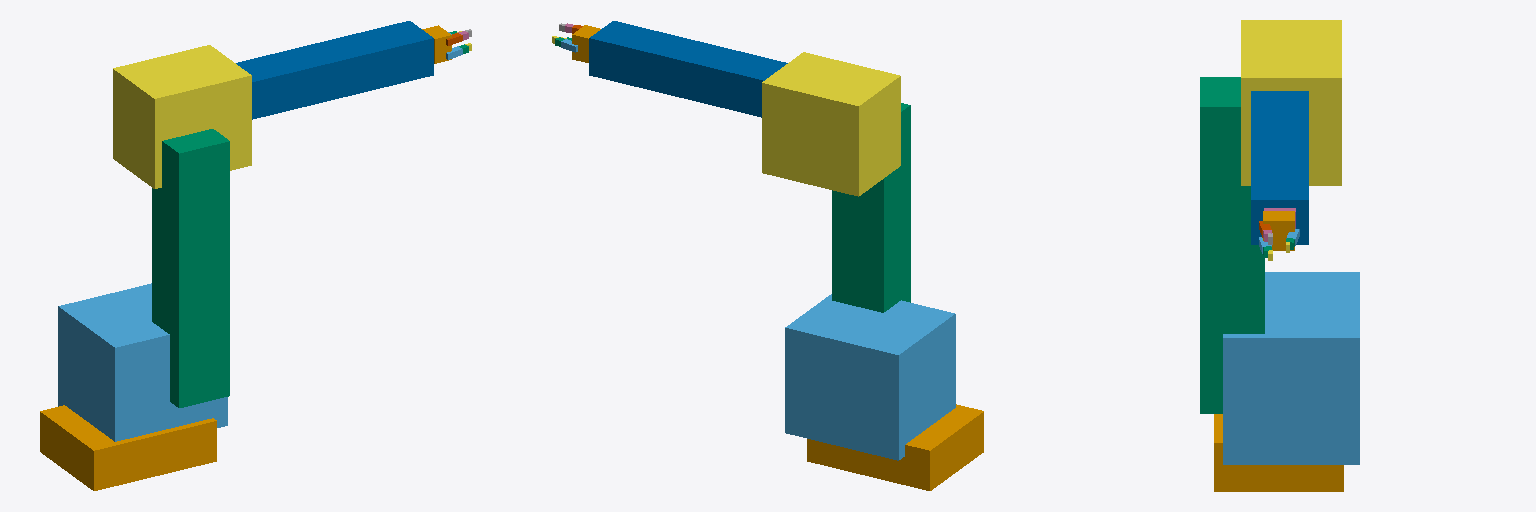
robot.urdf — IRB 4600/40:
<?xml version="1.0"?>
<robot name="IRB 4600/40" xmlns:xacro="http://ros.org/wiki/xacro">
  <link name="base_link">
    <visual>
      <origin xyz="-0.063119 0 0.106497" rpy="0 0 0"/>
      <geometry>
        <box size="0.676133 0.514411 0.213001"/>
      </geometry>
    </visual>
    <collision>
      <origin xyz="-0.063119 0 0.106497" rpy="0 0 0"/>
      <geometry>
        <box size="0.676133 0.514411 0.213001"/>
      </geometry>
    </collision>
  </link>
  <joint name="A motor" type="revolute">
    <parent link="base_link"/>
    <child link="solid"/>
    <axis xyz="0 0 1"/>
    <limit effort="10000" lower="-3.1415" upper="3.1415" velocity="10"/>
    <origin xyz="0 0 0.159498" rpy="0 0 0"/>
  </joint>
  <link name="solid">
    <visual>
      <origin xyz="0.046699 0.049037 0.270246" rpy="0 0 0"/>
      <geometry>
        <box size="0.621392 0.540918 0.552493"/>
      </geometry>
    </visual>
    <collision>
      <origin xyz="0.046699 0.049037 0.270246" rpy="0 0 0"/>
      <geometry>
        <box size="0.621392 0.540918 0.552493"/>
      </geometry>
    </collision>
  </link>
  <joint name="B motor" type="revolute">
    <parent link="solid"/>
    <child link="solid_0"/>
    <axis xyz="0 1 0"/>
    <limit effort="10000" lower="-1.5708" upper="2.61799" velocity="10"/>
    <origin xyz="0.178445 -0.122498 0.334888" rpy="0 0 0"/>
  </joint>
  <link name="solid_0">
    <visual>
      <origin xyz="-0.003447 -0.061473 0.529095" rpy="0 0 0"/>
      <geometry>
        <box size="0.279997 0.256948 1.33599"/>
      </geometry>
    </visual>
    <collision>
      <origin xyz="-0.003447 -0.061473 0.529095" rpy="0 0 0"/>
      <geometry>
        <box size="0.279997 0.256948 1.33599"/>
      </geometry>
    </collision>
  </link>
  <joint name="C motor" type="revolute">
    <parent link="solid_0"/>
    <child link="solid_1"/>
    <axis xyz="0 1 0"/>
    <limit effort="10000" lower="-3.1415" upper="1.309" velocity="10"/>
    <origin xyz="-0.003447 -0.0267 1.095594" rpy="0 0 0"/>
  </joint>
  <link name="solid_1">
    <visual>
      <origin xyz="0.085806 0.199325 0.094072" rpy="0 0 0"/>
      <geometry>
        <box size="0.533578 0.398651 0.472912"/>
      </geometry>
    </visual>
    <collision>
      <origin xyz="0.085806 0.199325 0.094072" rpy="0 0 0"/>
      <geometry>
        <box size="0.533578 0.398651 0.472912"/>
      </geometry>
    </collision>
  </link>
  <joint name="D motor" type="revolute">
    <parent link="solid_1"/>
    <child link="solid_2"/>
    <axis xyz="1 0 0"/>
    <limit effort="10000" lower="-6.98132" upper="6.98132" velocity="10"/>
    <origin xyz="0.340095 0.149198 0.174998" rpy="0 0 0"/>
  </joint>
  <link name="solid_2">
    <visual>
      <origin xyz="0.511874 0.003021 0" rpy="0 0 0"/>
      <geometry>
        <box size="1.04097 0.228038 0.195956"/>
      </geometry>
    </visual>
    <collision>
      <origin xyz="0.511874 0.003021 0" rpy="0 0 0"/>
      <geometry>
        <box size="1.04097 0.228038 0.195956"/>
      </geometry>
    </collision>
  </link>
  <joint name="E motor" type="revolute">
    <parent link="solid_2"/>
    <child link="solid_3"/>
    <axis xyz="0 1 0"/>
    <limit effort="10000" lower="-2.18166" upper="2.0944" velocity="10"/>
    <origin xyz="0.929888 0 0" rpy="0 0 0"/>
  </joint>
  <link name="solid_3">
    <visual>
      <origin xyz="0 -0.0015 0" rpy="0 0 0"/>
      <geometry>
        <box size="0.159731 0.130998 0.160194"/>
      </geometry>
    </visual>
    <collision>
      <origin xyz="0 -0.0015 0" rpy="0 0 0"/>
      <geometry>
        <box size="0.159731 0.130998 0.160194"/>
      </geometry>
    </collision>
  </link>
  <joint name="F motor" type="revolute">
    <parent link="solid_3"/>
    <child link="solid_4"/>
    <axis xyz="1 0 0"/>
    <limit effort="10000" lower="-6.98132" upper="6.98132" velocity="10"/>
    <origin xyz="0.125 0 0" rpy="0 0 0"/>
  </joint>
  <link name="solid_4">
    <visual>
      <origin xyz="-0.025004 0.002215 -0.000958" rpy="0 0 0"/>
      <geometry>
        <box size="0.069993 0.125817 0.125113"/>
      </geometry>
    </visual>
    <collision>
      <origin xyz="-0.025004 0.002215 -0.000958" rpy="0 0 0"/>
      <geometry>
        <box size="0.069993 0.125817 0.125113"/>
      </geometry>
    </collision>
  </link>
  <link name="camera">
  </link>
  <joint name="solid_4_camera_joint" type="fixed">
    <parent link="solid_4"/>
    <child link="camera"/>
    <origin xyz="0.06 0 0" rpy="0.000017 0.000017 0.000017"/>
  </joint>
  <link name="gripper">
    <visual>
      <origin xyz="0 -0.029 0" rpy="0 0 0"/>
      <geometry>
        <cylinder radius="0.023" length="0.05"/>
      </geometry>
    </visual>
    <collision>
      <origin xyz="0 -0.029 0" rpy="0 0 0"/>
      <geometry>
        <cylinder radius="0.023" length="0.05"/>
      </geometry>
    </collision>
    <visual>
      <origin xyz="0 0.005 0" rpy="0 0 0"/>
      <geometry>
        <box size="0.126 0.093 0.13"/>
      </geometry>
    </visual>
    <collision>
      <origin xyz="0 0.005 0" rpy="0 0 0"/>
      <geometry>
        <box size="0.126 0.093 0.13"/>
      </geometry>
    </collision>
  </link>
  <joint name="solid_4_gripper_joint" type="fixed">
    <parent link="solid_4"/>
    <child link="gripper"/>
    <origin xyz="0.052 0 0" rpy="3.140799 -0.000003 1.570799"/>
  </joint>
  <joint name="finger_middle_joint_1" type="revolute">
    <parent link="gripper"/>
    <child link="finger_middle_link_1"/>
    <axis xyz="0 0 1"/>
    <limit effort="100" lower="0.0495" upper="1.2218" velocity="100"/>
    <origin xyz="0.045516 0.0414 0" rpy="0 0 1.57"/>
  </joint>
  <link name="finger_middle_link_1">
    <visual>
      <origin xyz="0.01231 -0.02039 0" rpy="0 0 -0.467371"/>
      <geometry>
        <box size="0.091 0.038 0.032"/>
      </geometry>
    </visual>
    <collision>
      <origin xyz="0.01231 -0.02039 0" rpy="0 0 -0.467371"/>
      <geometry>
        <box size="0.091 0.038 0.032"/>
      </geometry>
    </collision>
  </link>
  <joint name="finger_middle_joint_2" type="revolute">
    <parent link="finger_middle_link_1"/>
    <child link="finger_middle_link_2"/>
    <axis xyz="0 0 1"/>
    <limit effort="100" lower="0" upper="1.5708" velocity="100"/>
    <origin xyz="0.05 -0.028 0" rpy="0 0 -0.52"/>
  </joint>
  <link name="finger_middle_link_2">
    <visual>
      <origin xyz="0.02694 -0.008952 0" rpy="0 0 -0.012556"/>
      <geometry>
        <box size="0.04 0.032 0.032"/>
      </geometry>
    </visual>
    <collision>
      <origin xyz="0.02694 -0.008952 0" rpy="0 0 -0.012556"/>
      <geometry>
        <box size="0.04 0.032 0.032"/>
      </geometry>
    </collision>
  </link>
  <joint name="finger_middle_joint_3" type="revolute">
    <parent link="finger_middle_link_2"/>
    <child link="finger_middle_link_3"/>
    <axis xyz="0 0 1"/>
    <limit effort="100" lower="-1.2217" upper="-0.0523" velocity="100"/>
    <origin xyz="0.039 0 0" rpy="0 0 0"/>
  </joint>
  <link name="finger_middle_link_3">
    <visual>
      <origin xyz="0.018 0.00913 0" rpy="0 0 0.520259"/>
      <geometry>
        <box size="0.035 0.018 0.032"/>
      </geometry>
    </visual>
    <collision>
      <origin xyz="0.018 0.00913 0" rpy="0 0 0.520259"/>
      <geometry>
        <box size="0.035 0.018 0.032"/>
      </geometry>
    </collision>
  </link>
  <joint name="palm_finger_2_joint" type="revolute">
    <parent link="gripper"/>
    <child link="finger_2_link_0"/>
    <axis xyz="0 1 -0.000007"/>
    <limit effort="100" lower="-0.192" upper="0.1784" velocity="100"/>
    <origin xyz="-0.0455 0.0214 -0.036" rpy="3.141592 -0.000008 1.571593"/>
  </joint>
  <link name="finger_2_link_0">
    <visual>
      <origin xyz="0.007 0.006 0" rpy="0 0 0"/>
      <geometry>
        <box size="0.04 0.04 0.032"/>
      </geometry>
    </visual>
    <collision>
      <origin xyz="0.007 0.006 0" rpy="0 0 0"/>
      <geometry>
        <box size="0.04 0.04 0.032"/>
      </geometry>
    </collision>
  </link>
  <joint name="finger_2_joint_1" type="revolute">
    <parent link="finger_2_link_0"/>
    <child link="finger_2_link_1"/>
    <axis xyz="0 0 1"/>
    <limit effort="100" lower="0.0495" upper="1.2218" velocity="100"/>
    <origin xyz="0.02 0 0" rpy="0 0 0"/>
  </joint>
  <link name="finger_2_link_1">
    <visual>
      <origin xyz="0.012315 -0.02039 0" rpy="0 0 -0.467371"/>
      <geometry>
        <box size="0.091 0.038 0.032"/>
      </geometry>
    </visual>
    <collision>
      <origin xyz="0.012315 -0.02039 0" rpy="0 0 -0.467371"/>
      <geometry>
        <box size="0.091 0.038 0.032"/>
      </geometry>
    </collision>
  </link>
  <joint name="finger_2_joint_2" type="revolute">
    <parent link="finger_2_link_1"/>
    <child link="finger_2_link_2"/>
    <axis xyz="0 0 1"/>
    <limit effort="100" lower="0" upper="1.5708" velocity="100"/>
    <origin xyz="0.05 -0.028 0" rpy="0 0 -0.52"/>
  </joint>
  <link name="finger_2_link_2">
    <visual>
      <origin xyz="0.02694 -0.00895 0" rpy="0 0 -0.012556"/>
      <geometry>
        <box size="0.04 0.032 0.032"/>
      </geometry>
    </visual>
    <collision>
      <origin xyz="0.02694 -0.00895 0" rpy="0 0 -0.012556"/>
      <geometry>
        <box size="0.04 0.032 0.032"/>
      </geometry>
    </collision>
  </link>
  <joint name="finger_2_joint_3" type="revolute">
    <parent link="finger_2_link_2"/>
    <child link="finger_2_link_3"/>
    <axis xyz="0 0 1"/>
    <limit effort="100" lower="-1.2217" upper="-0.0523" velocity="100"/>
    <origin xyz="0.039 0 0" rpy="0 0 0"/>
  </joint>
  <link name="finger_2_link_3">
    <visual>
      <origin xyz="0.018 0.00913 0" rpy="0 0 0.520259"/>
      <geometry>
        <box size="0.035 0.018 0.032"/>
      </geometry>
    </visual>
    <collision>
      <origin xyz="0.018 0.00913 0" rpy="0 0 0.520259"/>
      <geometry>
        <box size="0.035 0.018 0.032"/>
      </geometry>
    </collision>
  </link>
  <joint name="palm_finger_1_joint" type="revolute">
    <parent link="gripper"/>
    <child link="finger_1_link_0"/>
    <axis xyz="0 1 -0.000007"/>
    <limit effort="100" lower="-0.1784" upper="0.192" velocity="100"/>
    <origin xyz="-0.0455 0.0214 0.036" rpy="3.141592 -0.000008 1.571593"/>
  </joint>
  <link name="finger_1_link_0">
    <visual>
      <origin xyz="0.007 0.006 0" rpy="0 0 0"/>
      <geometry>
        <box size="0.04 0.04 0.032"/>
      </geometry>
    </visual>
    <collision>
      <origin xyz="0.007 0.006 0" rpy="0 0 0"/>
      <geometry>
        <box size="0.04 0.04 0.032"/>
      </geometry>
    </collision>
  </link>
  <joint name="finger_1_joint_1" type="revolute">
    <parent link="finger_1_link_0"/>
    <child link="finger_1_link_1"/>
    <axis xyz="0 0 1"/>
    <limit effort="100" lower="0.0495" upper="1.2218" velocity="100"/>
    <origin xyz="0.02 0 0" rpy="0 0 0"/>
  </joint>
  <link name="finger_1_link_1">
    <visual>
      <origin xyz="0.012316 -0.02039 0" rpy="0 0 -0.467371"/>
      <geometry>
        <box size="0.091 0.038 0.032"/>
      </geometry>
    </visual>
    <collision>
      <origin xyz="0.012316 -0.02039 0" rpy="0 0 -0.467371"/>
      <geometry>
        <box size="0.091 0.038 0.032"/>
      </geometry>
    </collision>
  </link>
  <joint name="finger_1_joint_2" type="revolute">
    <parent link="finger_1_link_1"/>
    <child link="finger_1_link_2"/>
    <axis xyz="0 0 1"/>
    <limit effort="100" lower="0" upper="1.5708" velocity="100"/>
    <origin xyz="0.05 -0.028 0" rpy="0 0 -0.52"/>
  </joint>
  <link name="finger_1_link_2">
    <visual>
      <origin xyz="0.02694 -0.00895 0" rpy="0 0 -0.012556"/>
      <geometry>
        <box size="0.04 0.032 0.032"/>
      </geometry>
    </visual>
    <collision>
      <origin xyz="0.02694 -0.00895 0" rpy="0 0 -0.012556"/>
      <geometry>
        <box size="0.04 0.032 0.032"/>
      </geometry>
    </collision>
  </link>
  <joint name="finger_1_joint_3" type="revolute">
    <parent link="finger_1_link_2"/>
    <child link="finger_1_link_3"/>
    <axis xyz="0 0 1"/>
    <limit effort="100" lower="-1.2217" upper="-0.0523" velocity="100"/>
    <origin xyz="0.039 0 0" rpy="0 0 0"/>
  </joint>
  <link name="finger_1_link_3">
    <visual>
      <origin xyz="0.018004 0.009133 0" rpy="0 0 0.520259"/>
      <geometry>
        <box size="0.035 0.018 0.032"/>
      </geometry>
    </visual>
    <collision>
      <origin xyz="0.018004 0.009133 0" rpy="0 0 0.520259"/>
      <geometry>
        <box size="0.035 0.018 0.032"/>
      </geometry>
    </collision>
  </link>
</robot>

--- Facts derived from the render (not from the file) ---
Views: 3 orthographic renders of the robot side by side, from view 1: azimuth 30°, elevation 25°; view 2: azimuth 150°, elevation 25°; view 3: azimuth 270°, elevation 25°.
Robot: IRB 4600/40 — 20 links, 19 joints (17 revolute, 2 fixed); root link base_link; default pose: all joints at 0 but 6 set to mid-range because 0 is outside their limits (finger_middle_joint_1 = 0.6357, finger_middle_joint_3 = -0.637, finger_2_joint_1 = 0.6357, finger_2_joint_3 = -0.637, finger_1_joint_1 = 0.6357, finger_1_joint_3 = -0.637).
Visible links, largest first — view 1: solid_0, solid, solid_1, solid_2, base_link, gripper; view 2: solid, solid_1, solid_2, solid_0, base_link, gripper; view 3: solid, solid_0, solid_1, solid_2, base_link, gripper.
Link boxes in pixels (box(x1,y1,x2,y2)): solid_0: box(152, 129, 229, 407); solid: box(58, 283, 227, 441); solid_1: box(113, 45, 251, 188); solid_2: box(236, 21, 433, 119); base_link: box(40, 405, 216, 490); gripper: box(422, 25, 451, 63); solid: box(785, 294, 955, 460); solid_1: box(762, 52, 900, 196); solid_2: box(589, 21, 787, 117); solid_0: box(832, 103, 910, 312); base_link: box(807, 404, 983, 490); gripper: box(572, 25, 600, 62); solid: box(1223, 272, 1359, 464); solid_0: box(1200, 77, 1264, 413); solid_1: box(1241, 20, 1341, 185); solid_2: box(1251, 91, 1308, 244); base_link: box(1214, 414, 1343, 491); gripper: box(1263, 211, 1294, 250).
Bounding box of the posed robot: 2.2 × 0.6319 × 1.92 m (x, y, z).
Geometry: primitives only (box / cylinder / sphere), no mesh files.